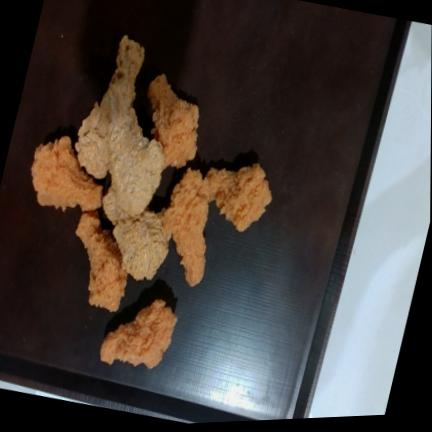chicken: (76, 35, 144, 179), (103, 85, 165, 222), (164, 168, 210, 286), (31, 137, 103, 211), (100, 300, 177, 368), (76, 211, 127, 311), (148, 74, 199, 167), (205, 163, 272, 232), (113, 209, 171, 280)
